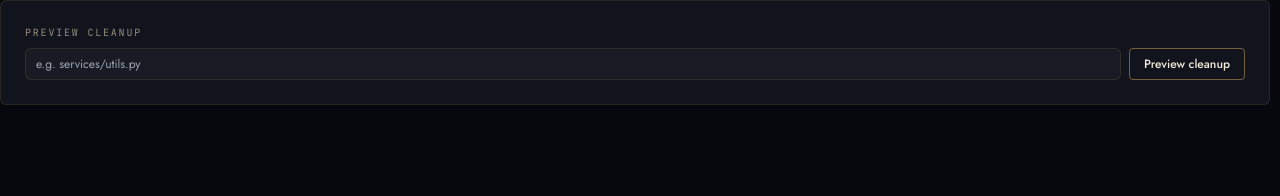
Ticket F-UI · SimplifyFilePanel › shows the safety-gate refusal reason + named violations, never a diff (real FastAPI {detail:...} envelope)
This screenshot has width=1280, height=196.
Type "services/osv_client.py" into the field with test id "simplify-file-path-input" at {"x": 573, "y": 64}, box [25, 48, 1121, 80]
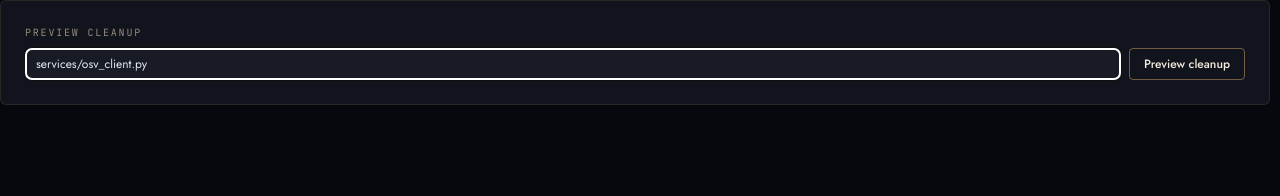
Click the button with test id "simplify-file-preview-btn" at {"x": 1187, "y": 64}, box [1129, 48, 1245, 80]
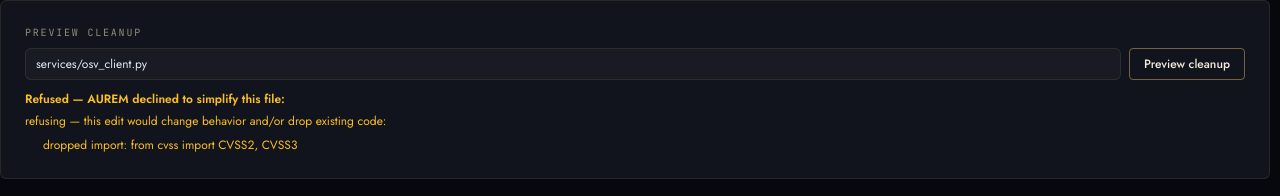
Check: the message with test id "simplify-file-refused" is shown, box [25, 90, 386, 154]
Check: the list item with test id "simplify-violation-0" reads "dropped import: from cvss import CVSS2, CVSS3", box [43, 136, 298, 154]
